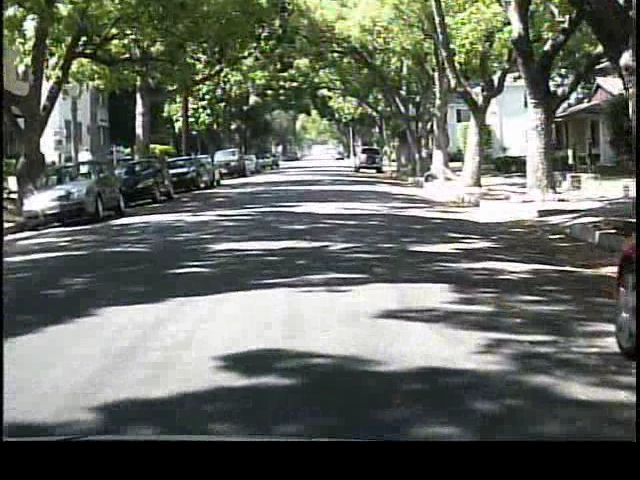person: (76, 144, 102, 197)
